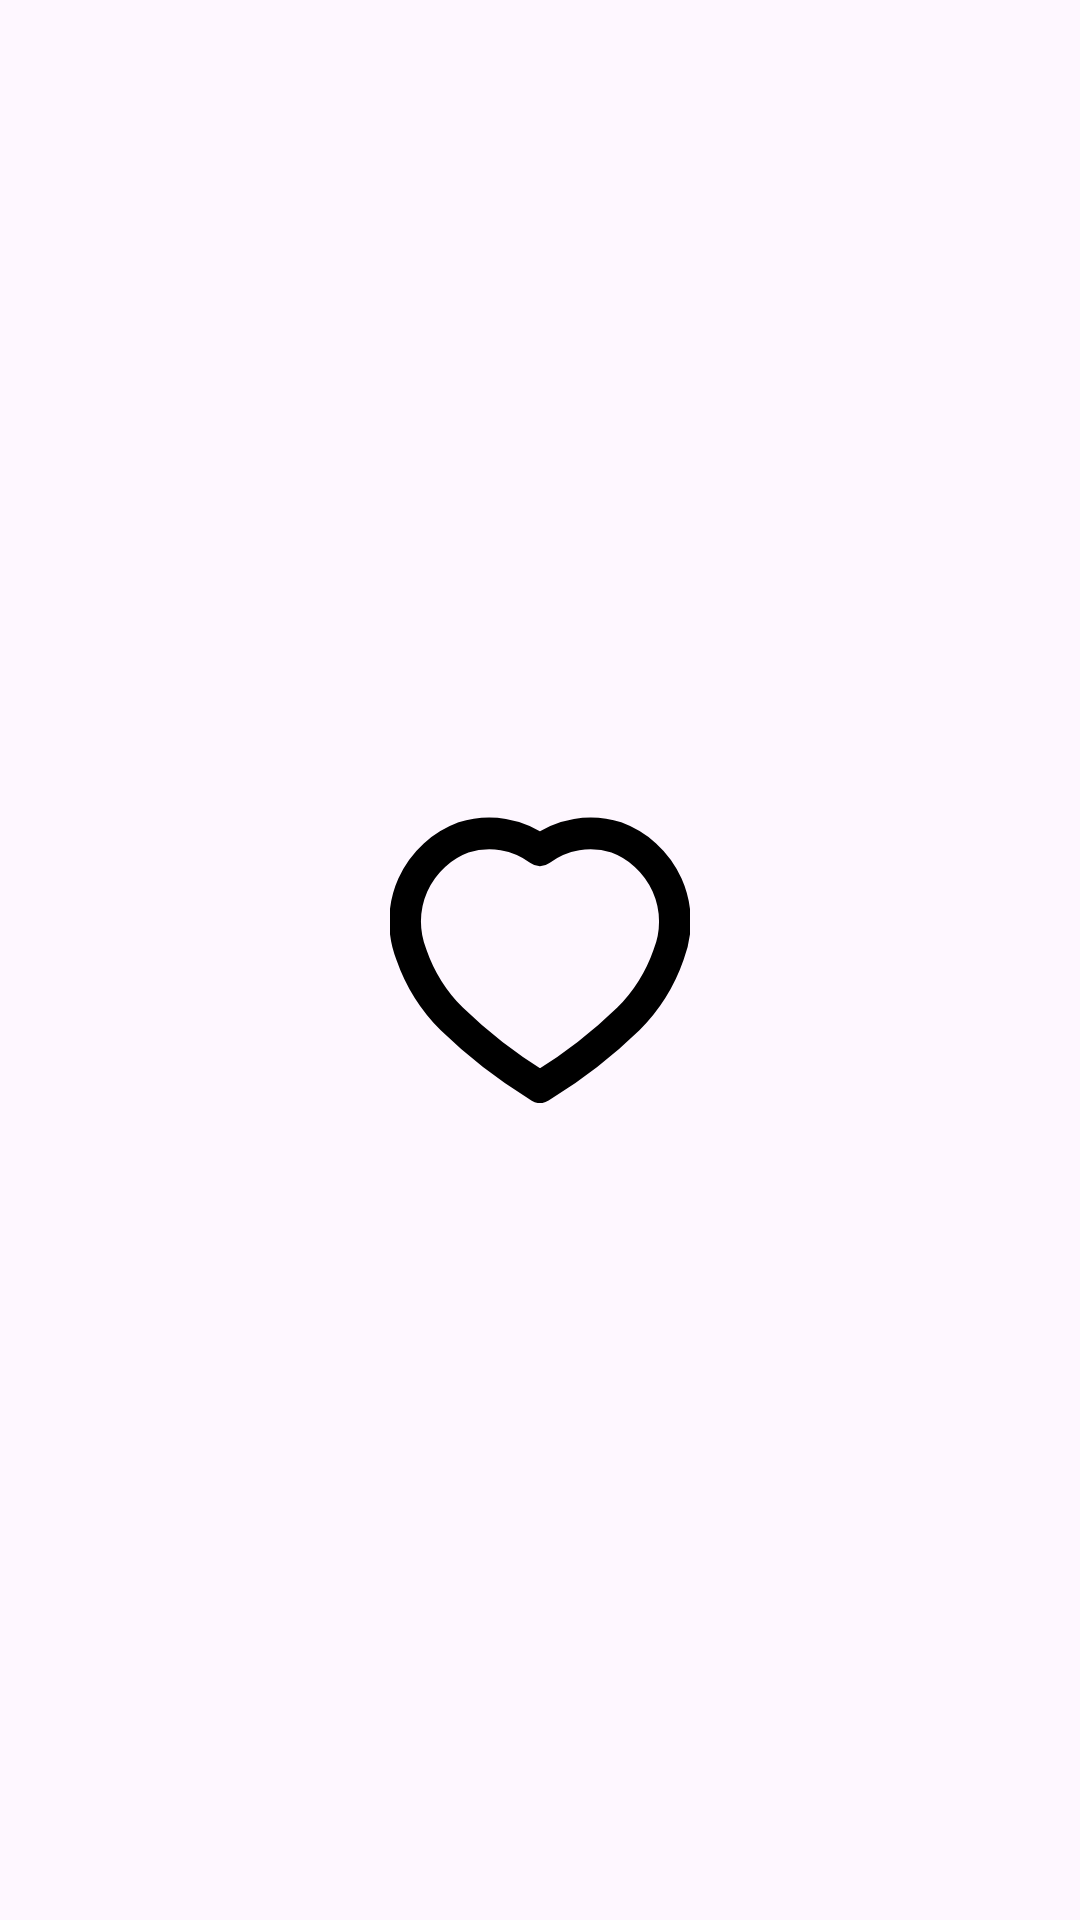

Icons on this 1080px x 1920px Android screen, each with its box as (x1, y1, x2, y2):
favourite: (390, 817, 690, 1103)
